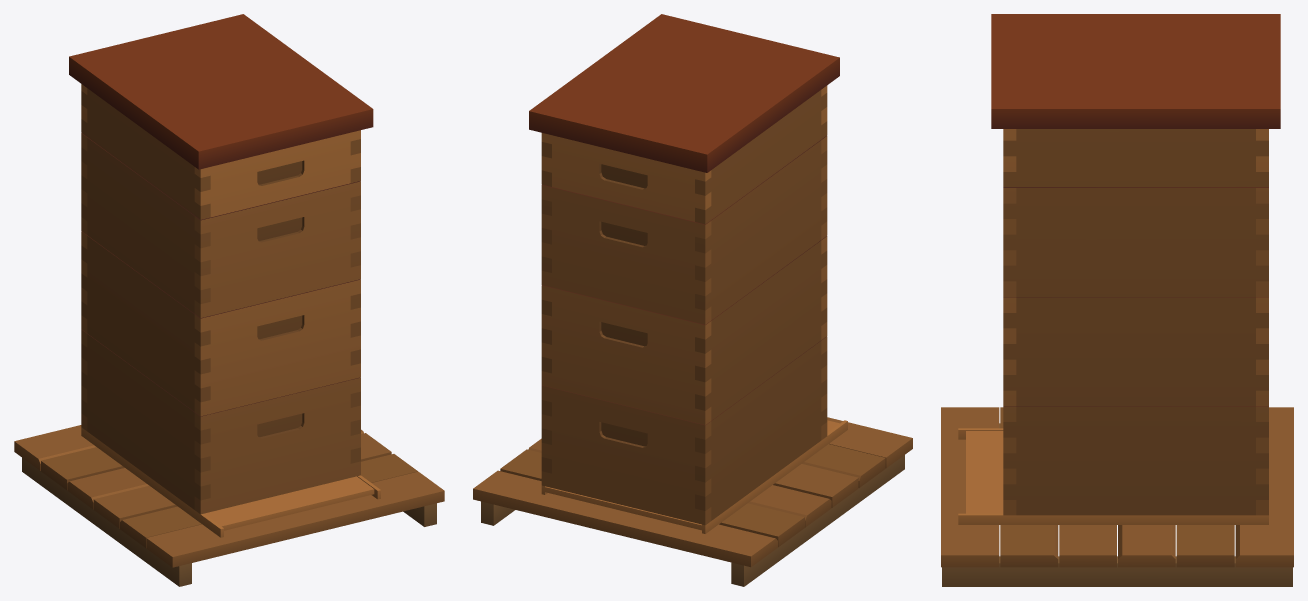
Rendered from Bld_Beehive_05.obj.
3 renders of one model, left to right at view 1: azimuth 30°, elevation 25°; view 2: azimuth 150°, elevation 25°; view 3: azimuth 270°, elevation 25°, orthographic. The views are drawn at different scales.
Visible parts, largest first — view 1: Bld_Beehive_05; view 2: Bld_Beehive_05; view 3: Bld_Beehive_05.
Boxes of the visible parts, x1,y1,x2,y2 form: Bld_Beehive_05: (14, 14, 444, 586); Bld_Beehive_05: (473, 14, 912, 586); Bld_Beehive_05: (941, 14, 1293, 586).
Bounding box in the file's own units: 1.05 × 1.51 × 1.06.
1 material, 1 textured.
